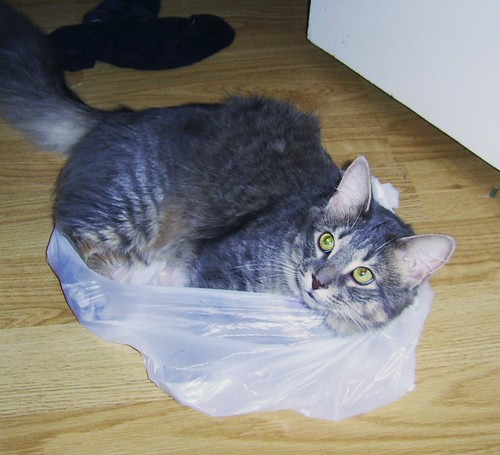plastic bag: (42, 226, 434, 422)
